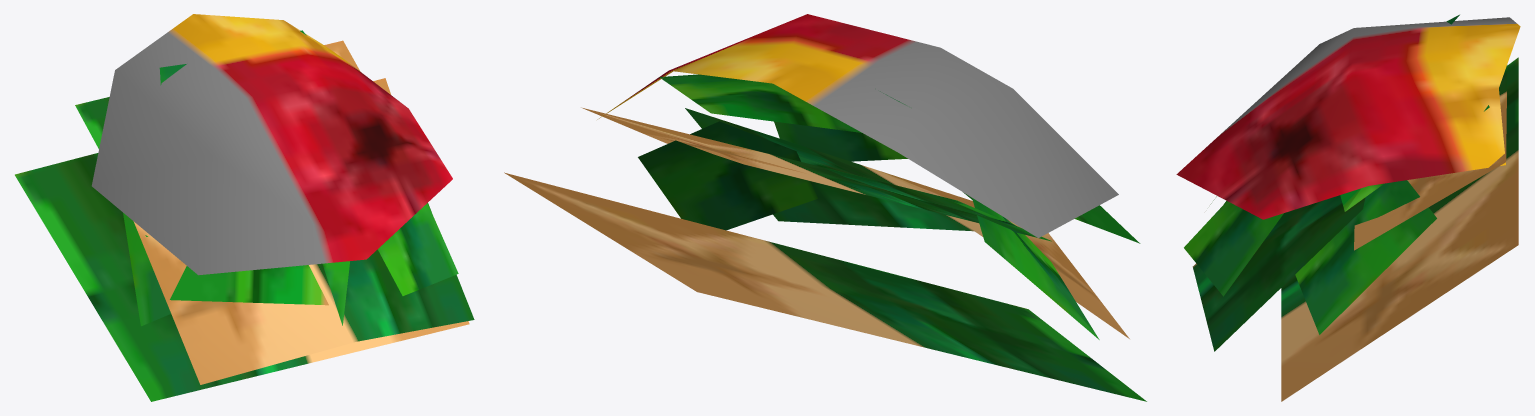
The model's file is fg_bushE_2_s.dae.
3 renders of one model, left to right at view 1: azimuth 30°, elevation 25°; view 2: azimuth 150°, elevation 25°; view 3: azimuth 270°, elevation 25°, orthographic. The views are drawn at different scales.
Visible parts, largest first — view 1: fg_bushE_2_s; view 2: fg_bushE_2_s; view 3: fg_bushE_2_s.
Part boxes in pixels (<box>): fg_bushE_2_s: <box>15,14,474,401</box>; fg_bushE_2_s: <box>504,14,1146,401</box>; fg_bushE_2_s: <box>1176,14,1520,401</box>.
Bounding box in the file's own units: 50.84 × 35.23 × 38.03.
Materials: 1 (1 with a texture image).
